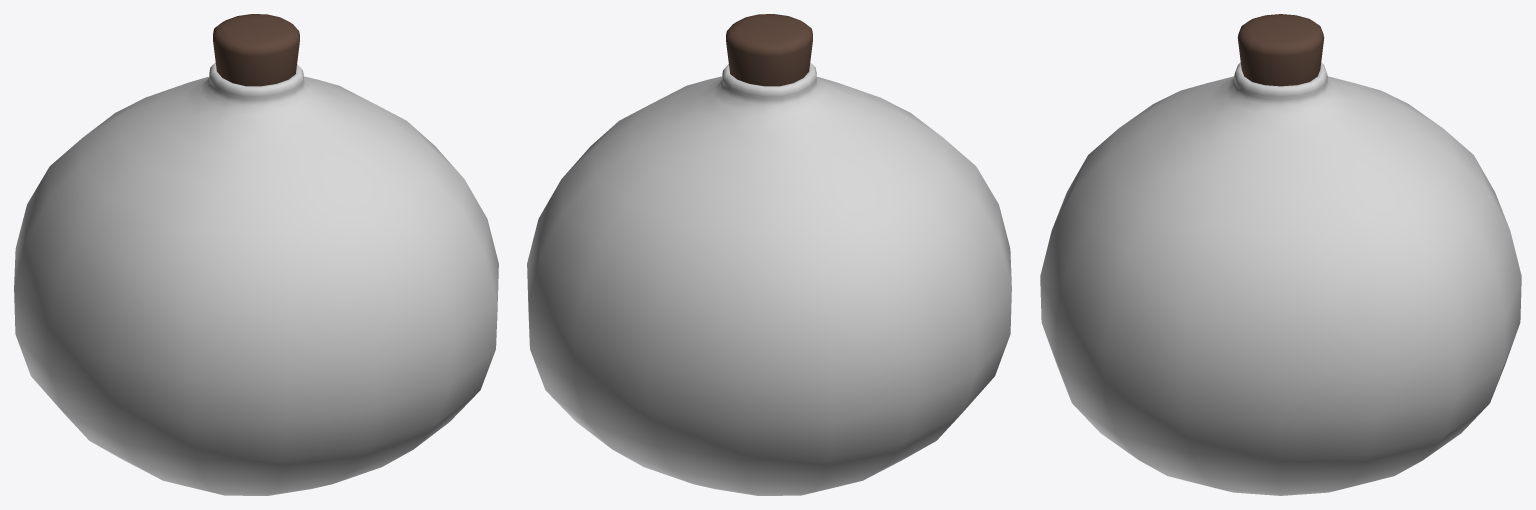
File: Potion9_Empty.glb
3 renders of one model, left to right at view 1: azimuth 30°, elevation 25°; view 2: azimuth 150°, elevation 25°; view 3: azimuth 270°, elevation 25°, orthographic.
Parts seen in each view (by area): view 1: Potion9_Empty_Cube.140; view 2: Potion9_Empty_Cube.140; view 3: Potion9_Empty_Cube.140.
Boxes of the visible parts, x1=… form: Potion9_Empty_Cube.140: x1=14, y1=14, x2=498, y2=495; Potion9_Empty_Cube.140: x1=527, y1=14, x2=1011, y2=495; Potion9_Empty_Cube.140: x1=1040, y1=14, x2=1521, y2=495.
Bounding box in the file's own units: 1.26 × 1.29 × 1.26.
